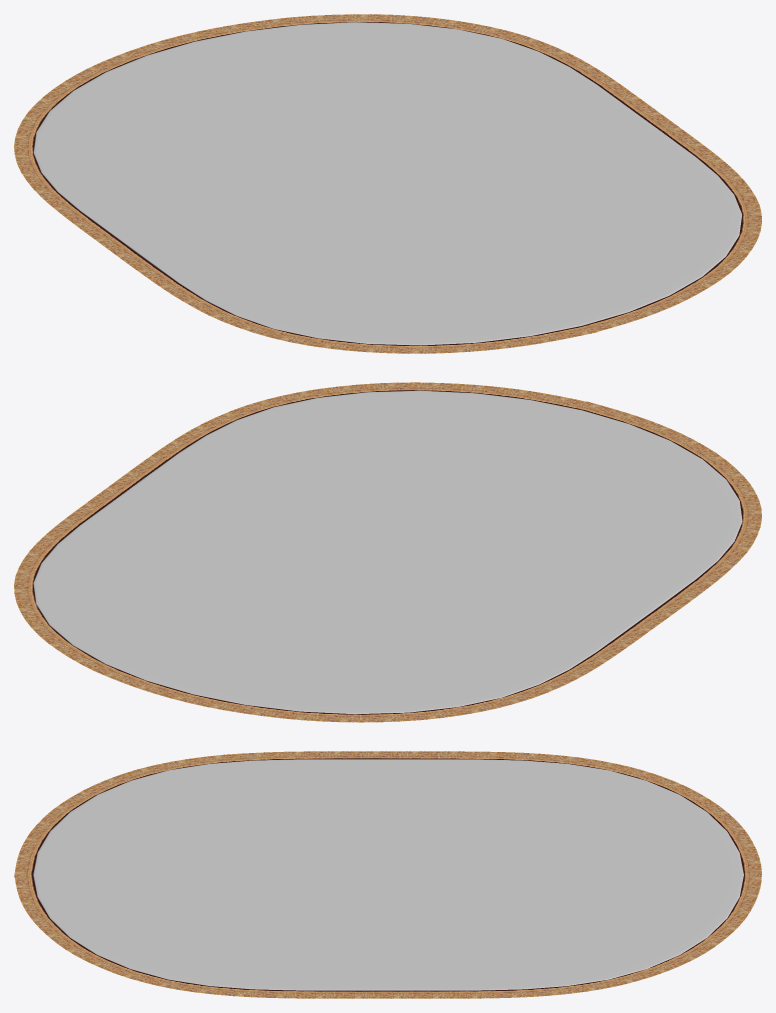
The model's file is PersianRugV2.fbx.
3 renders of one model, top to bottom at view 1: azimuth 30°, elevation 25°; view 2: azimuth 150°, elevation 25°; view 3: azimuth 270°, elevation 25°, orthographic. The views are drawn at different scales.
Parts seen in each view (by area): view 1: PersianAreaRug; view 2: PersianAreaRug; view 3: PersianAreaRug.
Boxes of the visible parts, x1=… form: PersianAreaRug: x1=14, y1=14, x2=761, y2=353; PersianAreaRug: x1=14, y1=382, x2=761, y2=722; PersianAreaRug: x1=14, y1=751, x2=761, y2=998.
Bounding box in the file's own units: 310 × 0.9552 × 396.
